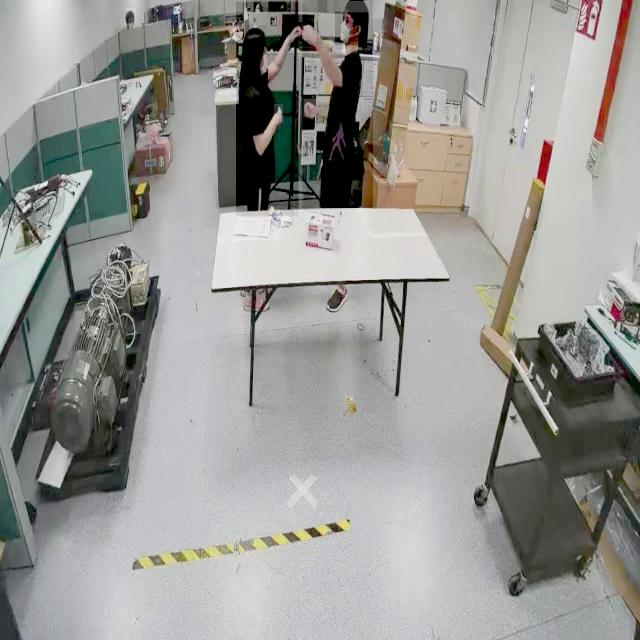face_mask: (334, 12, 360, 46)
hand_noglove: (302, 22, 318, 44), (303, 99, 317, 118), (289, 22, 302, 42), (274, 104, 284, 124)
head_nohelmet: (242, 25, 266, 47), (344, 1, 370, 13), (126, 8, 136, 18)
person: (302, 0, 373, 209), (236, 2, 298, 217)
shoes: (324, 280, 350, 314)
